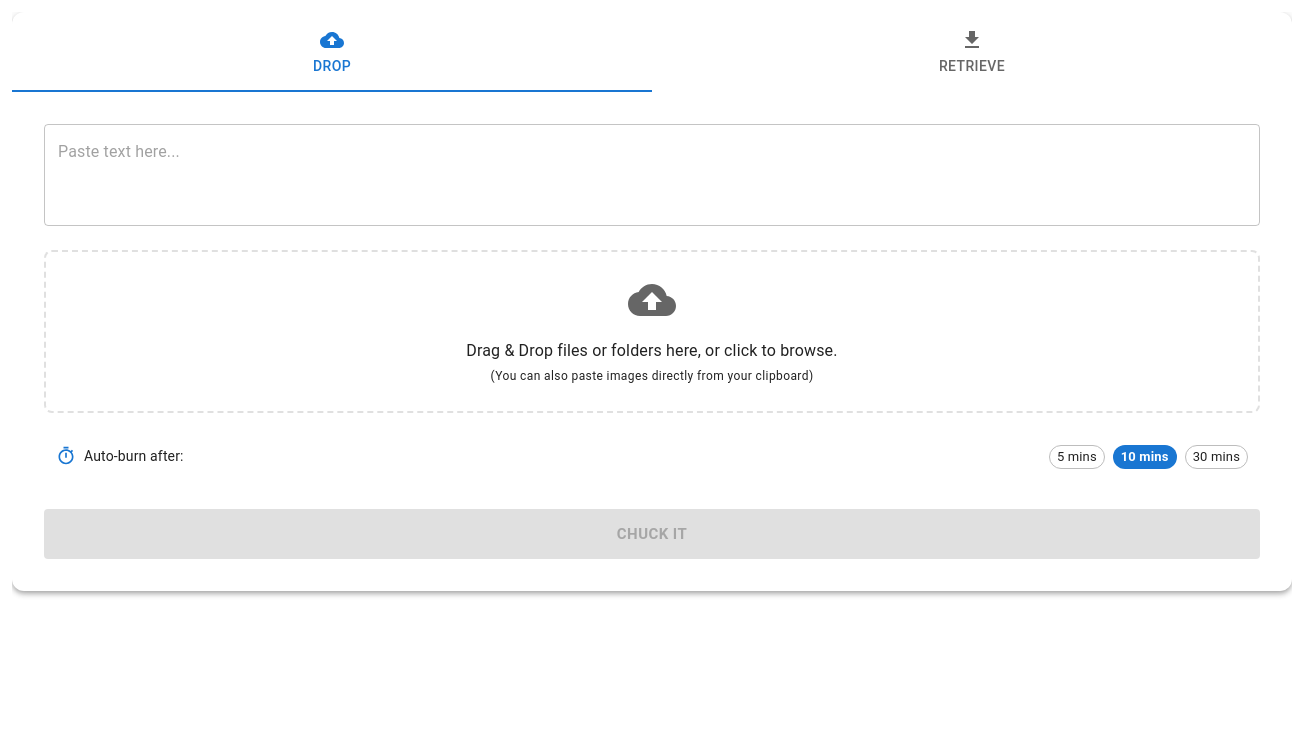
Test case: TransferHub › retrieves a drop when pressing Enter with a complete 4-digit PIN
This screenshot has width=1304, height=732.
// Switch to Retrieve tab
Click the tab "RETRIEVE": (972, 52) [652,12,1292,92]
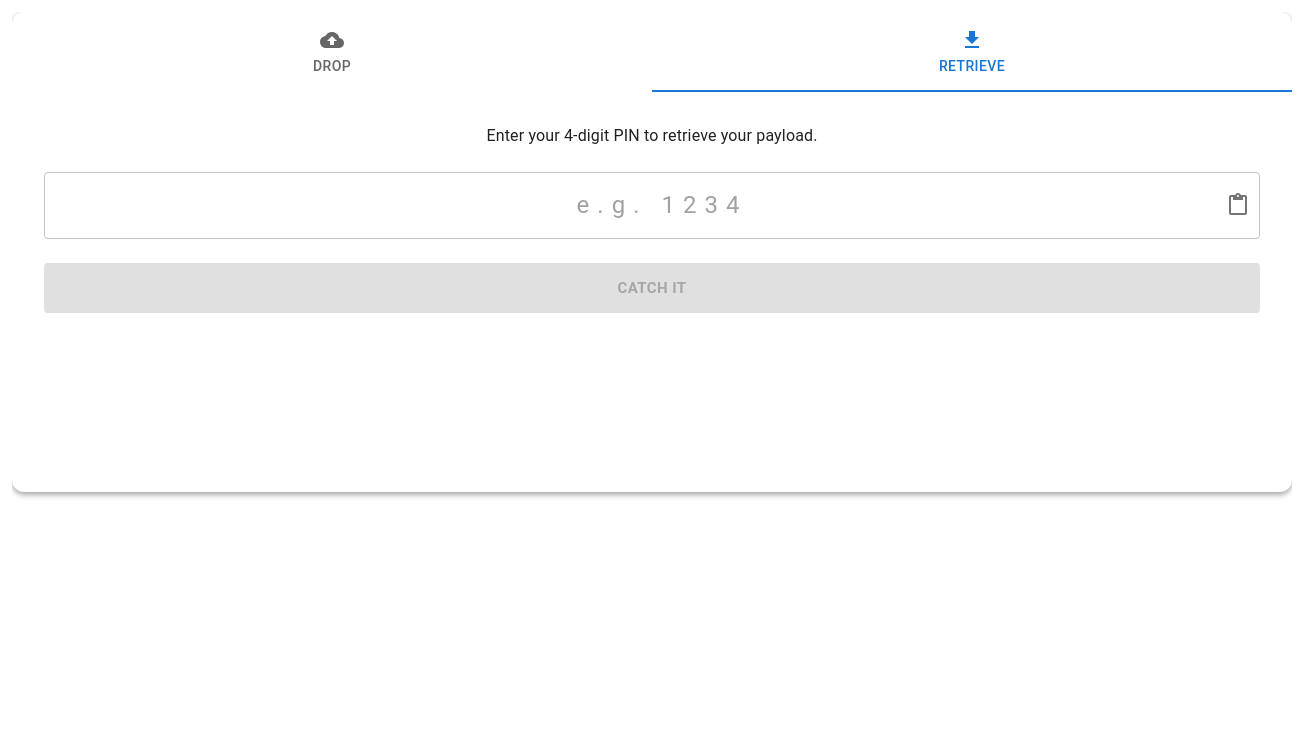
In the field with placeholder "e.g. 1234": (658, 205) [106,172,1210,239], type "1234"
Then press Enter
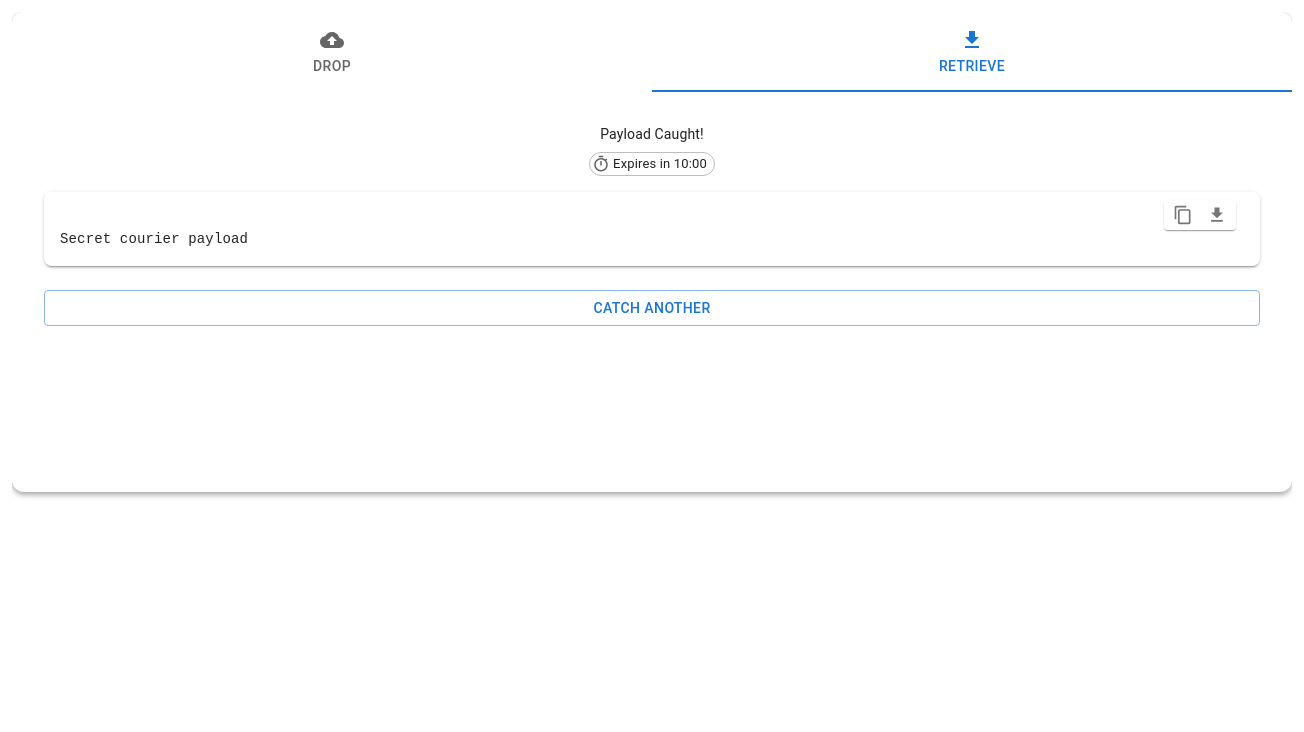
Check: the text "Payload Caught!" is shown, box [600,124,704,144]
Check: the text "Secret courier payload" is shown, box [60,230,248,246]
